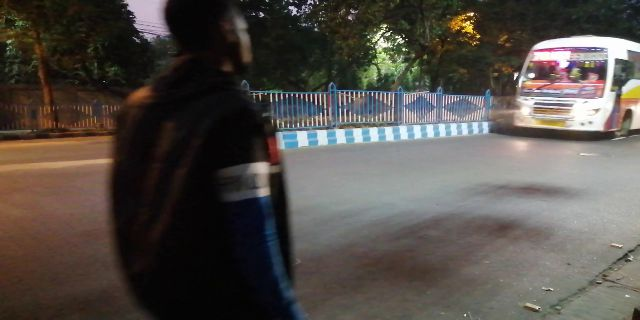Bus: (507, 29, 638, 146)
